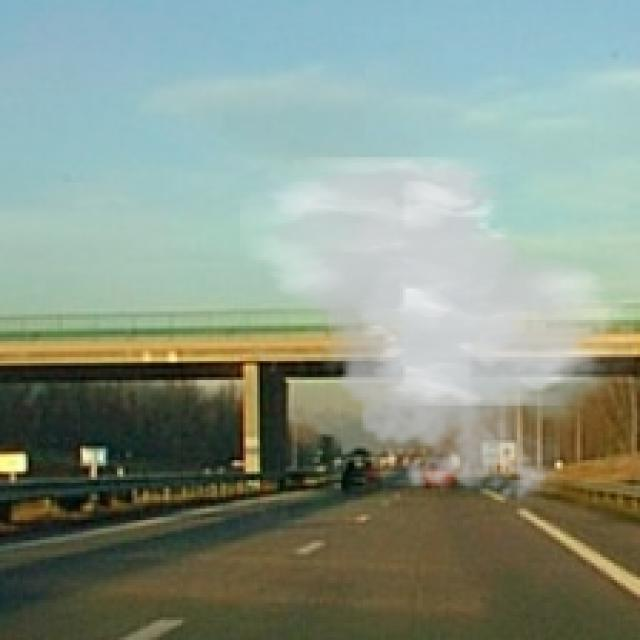smoke: (240, 157, 634, 512)
